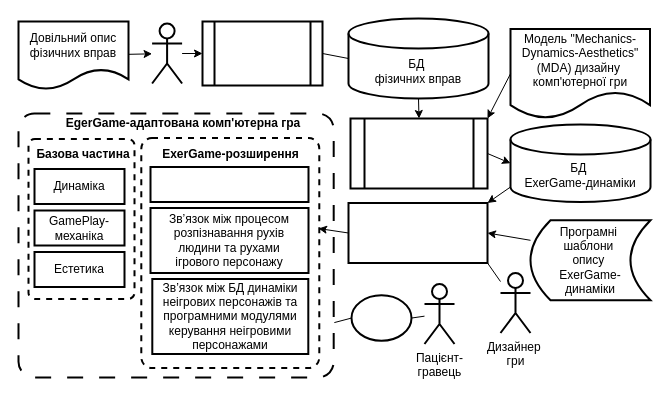
This 668x397 diagram has some shape labels left out. The shapes that lost their labels are listed below. From the top down, each one's centre as x and y in pixels, then its label:
At pixel 167 53: "Терапевт".
At pixel 262 53: "Заповнення БД фізичних вправ".
At pixel 418 153: "Процедурна генерація Exergame-динаміки".
At pixel 229 184: "Розпізнавання рухів людини".
At pixel 417 233: "Підключення ExerGame-розширення".
At pixel 381 317: "Веб камера".
